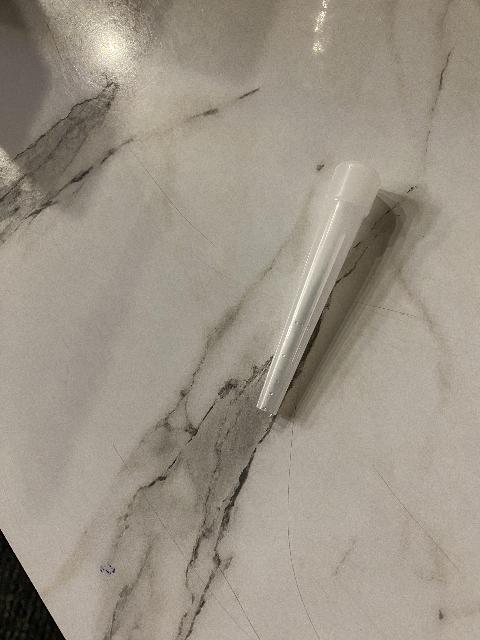Plastik: (252, 163, 395, 430)
